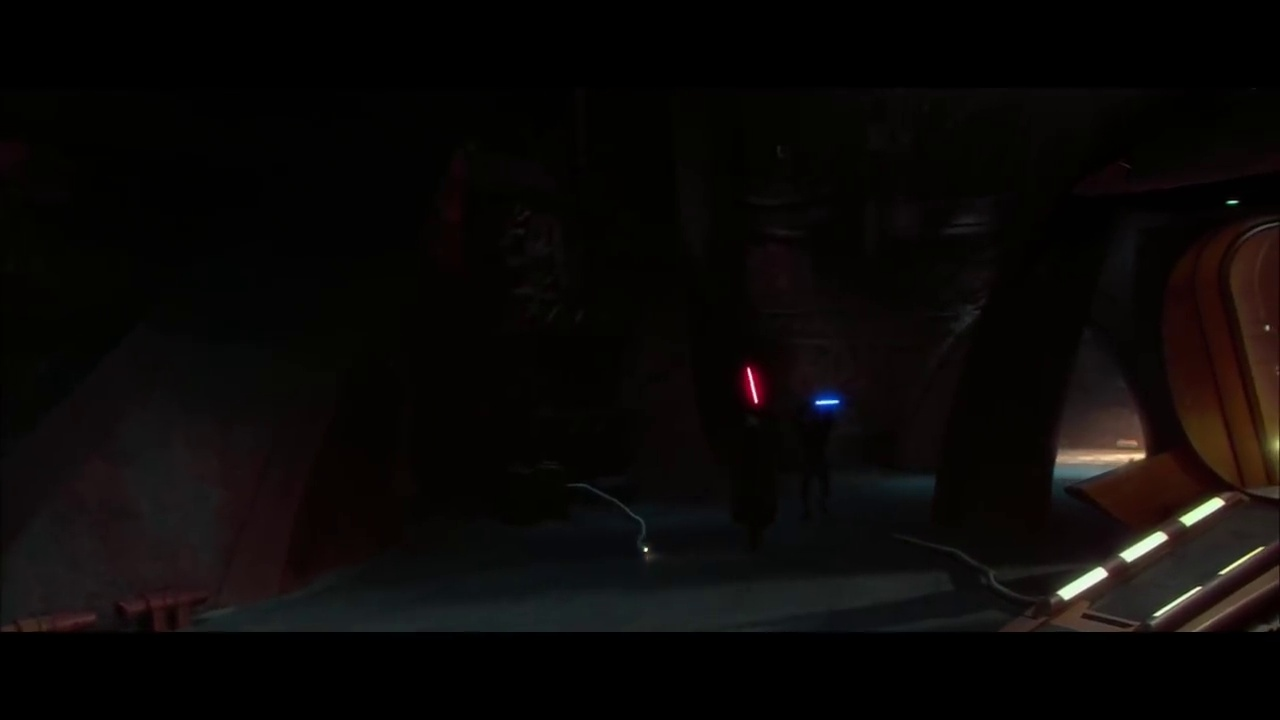lightsaber: (743, 363, 766, 416), (812, 394, 848, 408)
